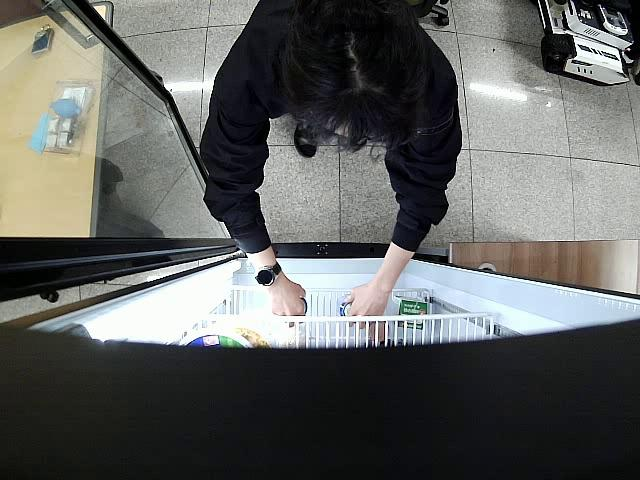00_hand: (269, 279, 306, 326), (346, 284, 384, 326)
13_pocariSweat: (337, 300, 356, 318)
